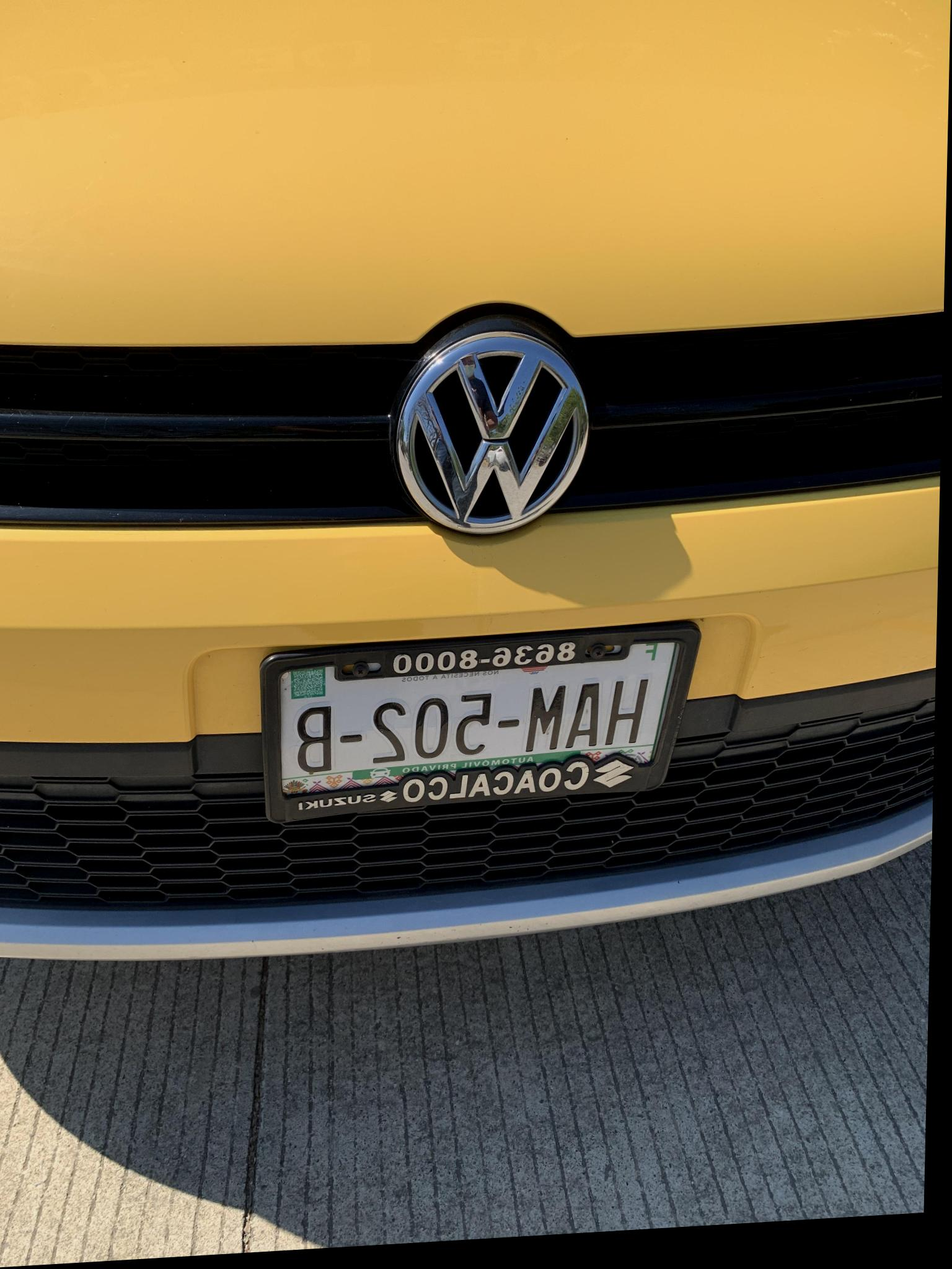License_Plate: (240, 607, 731, 834)
